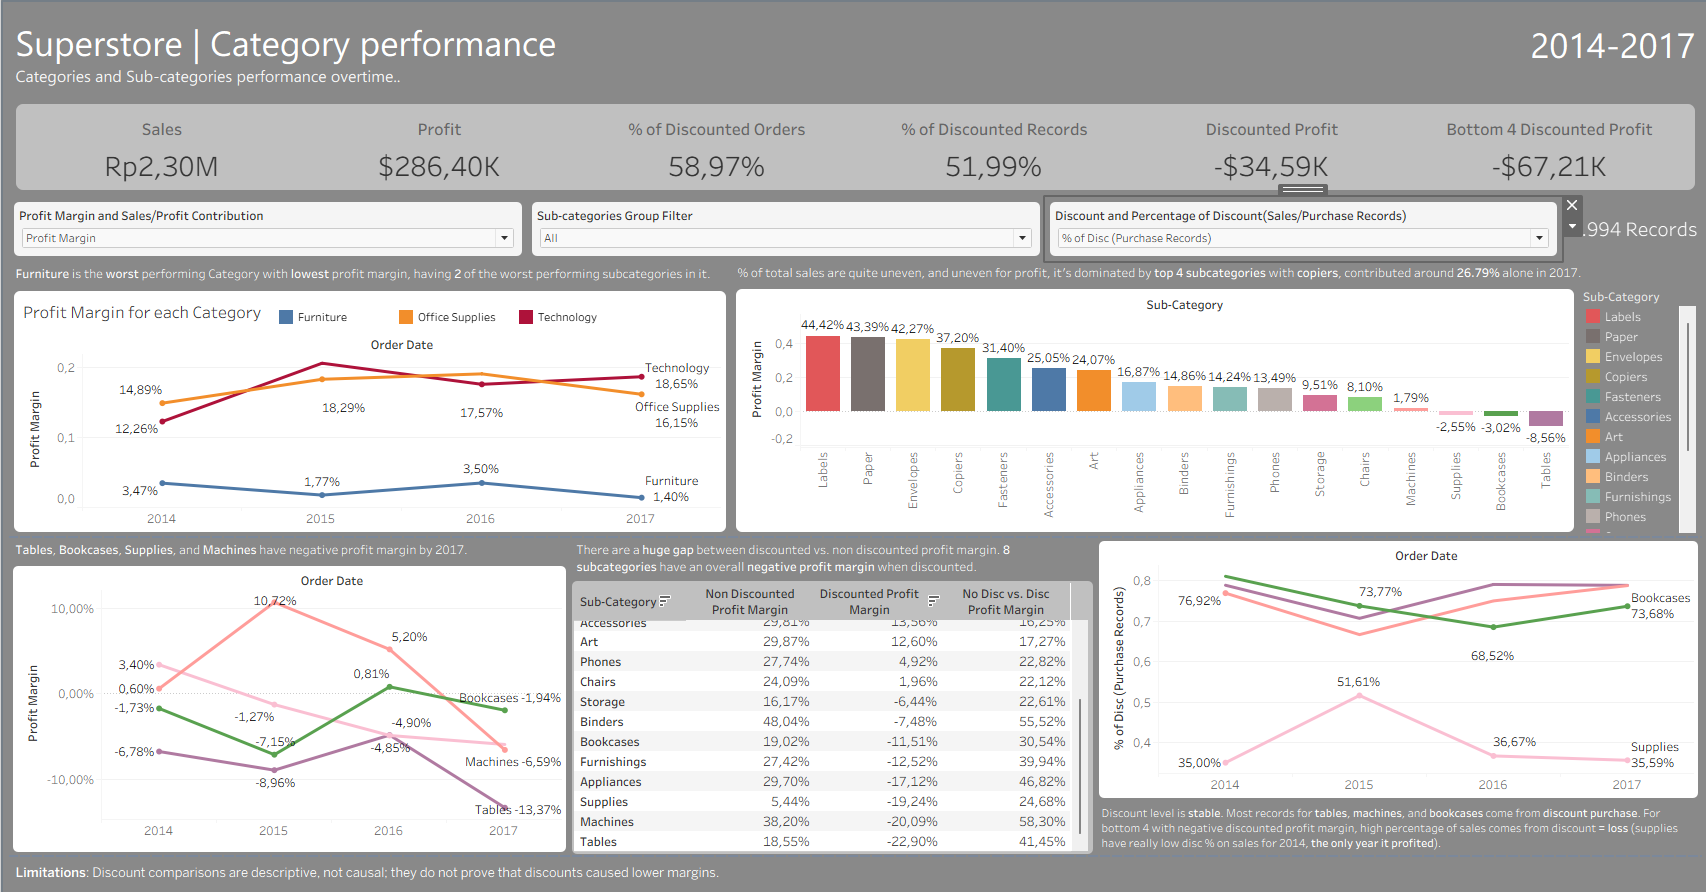

This screenshot's page, from the dashboard's own definition file:
{"tool":"tableau","page":{"name":"Dashboard","canvas":[1709,896],"ordinal":0},"visuals":[{"type":"text","box":[8,8,888.5,88.9]},{"type":"text","box":[896.5,8,804.5,88.9]},{"type":"worksheet","title":"KPI","mark":"Text","box":[8,96.9,1693,99.9]},{"type":"worksheet","title":"Data Count","mark":"Automatic","box":[1560.8,196.8,140.2,63.9]},{"type":"parameter","param":"[Parameters].[Parameter 0362338019753989]","box":[8,197,518,64]},{"type":"parameter","param":"[Parameters].[Parameter 1460200855977999]","box":[526,197,518,64]},{"type":"parameter","param":"[Parameters].[Parameter 1210886891081728]","box":[1044,197,517,64]},{"type":"text","box":[8,260.8,722,25]},{"type":"text","box":[730,260.8,971,23]},{"type":"worksheet","title":"subcat perf","mark":"Automatic","rows":["\\M P 1, Performance (Sales, Profit, Profit Margin (copy)_167"],"cols":["Sub-Category"],"box":[730,283.8,847.8,253.1]},{"type":"legend","title":"subcat perf","param":"[federated.0klv39y1jcajrk177lyts1opzyku].[none:Sub-Category:nk]","box":[1577.8,283.8,123,253.1]},{"type":"worksheet","title":"Category Perf ot","mark":"Automatic","cols":["Order Date"],"box":[8,285.8,722,251.1]},{"type":"legend","title":"Category Perf ot","param":"[federated.0klv39y1jcajrk177lyts1opzyku].[none:Category:nk]","box":[275,307,436,76]},{"type":"text","box":[8,536.9,561,25]},{"type":"text","box":[569,536.9,525,42]},{"type":"worksheet","title":"Disc vs no ot","mark":"Automatic","rows":["Calculation_1210886891397121"],"cols":["Order Date"],"box":[1094,536.9,607,265]},{"type":"worksheet","title":"bot 4 subc perf ot","mark":"Automatic","rows":["Calculation_0420336897404929"],"cols":["Order Date"],"box":[8,561.9,561,294]},{"type":"worksheet","title":"Disc vs No PM SC","mark":"Automatic","rows":["Sub-Category"],"box":[569,578.9,525,277]},{"type":"text","box":[1094,801.9,607,54]},{"type":"text","box":[8,855.9,1693,32.1]}]}

Visuals, with their boxes in screenshot pixels (x1, y1, x2, y2), scaled from the page's 1709x896 canvas onto the 1706x892 screenshot:
text: x1=8, y1=8, x2=895, y2=96
text: x1=895, y1=8, x2=1698, y2=96
"KPI" worksheet (Text marks): x1=8, y1=96, x2=1698, y2=196
"Data Count" worksheet: x1=1558, y1=196, x2=1698, y2=260
parameter: x1=8, y1=196, x2=525, y2=260
parameter: x1=525, y1=196, x2=1042, y2=260
parameter: x1=1042, y1=196, x2=1558, y2=260
text: x1=8, y1=260, x2=729, y2=285
text: x1=729, y1=260, x2=1698, y2=283
"subcat perf" worksheet: x1=729, y1=283, x2=1575, y2=535
"subcat perf" legend: x1=1575, y1=283, x2=1698, y2=535
"Category Perf ot" worksheet: x1=8, y1=285, x2=729, y2=535
"Category Perf ot" legend: x1=275, y1=306, x2=710, y2=381
text: x1=8, y1=535, x2=568, y2=559
text: x1=568, y1=535, x2=1092, y2=576
"Disc vs no ot" worksheet: x1=1092, y1=535, x2=1698, y2=798
"bot 4 subc perf ot" worksheet: x1=8, y1=559, x2=568, y2=852
"Disc vs No PM SC" worksheet: x1=568, y1=576, x2=1092, y2=852
text: x1=1092, y1=798, x2=1698, y2=852
text: x1=8, y1=852, x2=1698, y2=884
